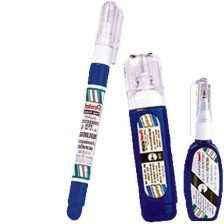correction_fluid: (65, 0, 126, 222), (121, 51, 181, 224), (182, 75, 224, 224)
